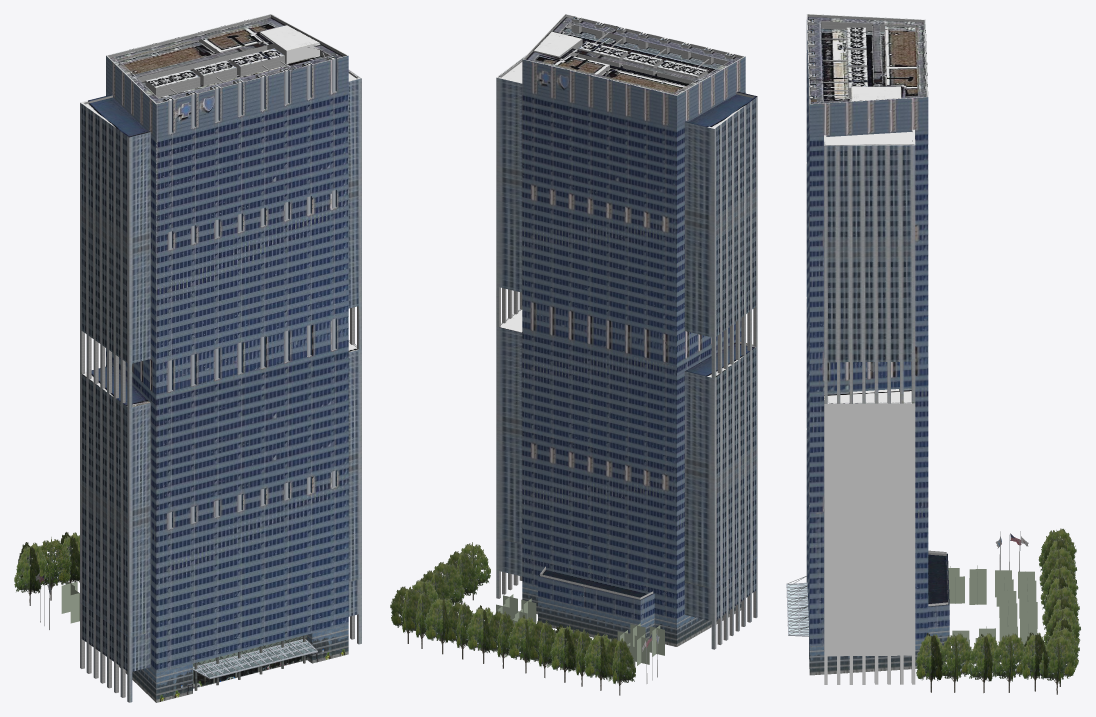
Rendered from Blue-Cross-Blue-Shield-Tower.fbx.
The picture shows the model from 3 angles, left to right: view 1: azimuth 30°, elevation 25°; view 2: azimuth 150°, elevation 25°; view 3: azimuth 270°, elevation 25°; orthographic projection. The views are drawn at different scales.
Visible parts, largest first — view 1: Model, Tree_2_1, Tree_2_2, Tree_2_3; view 2: Model, Tree_2_1, Tree_2_5, Tree_2_10, Tree_2_8, Tree_2_2, Tree_2_9, Tree_2_4, Tree_2_7, Tree_2_11, Tree_2_6, Tree_2_16 (+4 smaller); view 3: Model, Tree_2_12, Tree_2_14, Tree_2_16, Tree_2_15, Tree_2_17, Tree_2_13, Tree_2_5, Tree_2_9, Tree_2_7, Tree_2_1, Tree21.
Boxes of the visible parts, x1=… form: Model: x1=36, y1=14, x2=361, y2=702; Tree_2_1: x1=14, y1=542, x2=46, y2=605; Tree_2_2: x1=39, y1=537, x2=71, y2=600; Tree_2_3: x1=55, y1=532, x2=79, y2=583; Model: x1=496, y1=14, x2=757, y2=683; Tree_2_1: x1=604, y1=638, x2=635, y2=695; Tree_2_5: x1=526, y1=620, x2=559, y2=677; Tree_2_10: x1=424, y1=596, x2=456, y2=654; Tree_2_8: x1=466, y1=605, x2=496, y2=663; Tree_2_2: x1=583, y1=632, x2=612, y2=690; Tree_2_9: x1=447, y1=602, x2=478, y2=659; Tree_2_4: x1=550, y1=624, x2=576, y2=682; Tree_2_7: x1=485, y1=611, x2=519, y2=668; Tree_2_11: x1=405, y1=591, x2=437, y2=648; Tree_2_6: x1=507, y1=614, x2=539, y2=673; Tree_2_16: x1=443, y1=551, x2=478, y2=604; Model: x1=786, y1=14, x2=1028, y2=684; Tree_2_12: x1=1039, y1=635, x2=1076, y2=694; Tree_2_14: x1=992, y1=633, x2=1025, y2=692; Tree_2_16: x1=936, y1=633, x2=972, y2=692; Tree_2_15: x1=967, y1=633, x2=1000, y2=693; Tree_2_17: x1=915, y1=633, x2=945, y2=692; Tree_2_13: x1=1021, y1=632, x2=1049, y2=691; Tree_2_5: x1=1040, y1=566, x2=1078, y2=609; Tree_2_9: x1=1043, y1=606, x2=1080, y2=644; Tree_2_7: x1=1042, y1=586, x2=1079, y2=629; Tree_2_1: x1=1038, y1=528, x2=1076, y2=571; Tree21: x1=969, y1=577, x2=986, y2=604.
Bounding box in the file's own units: 4253 × 8886 × 4160.
